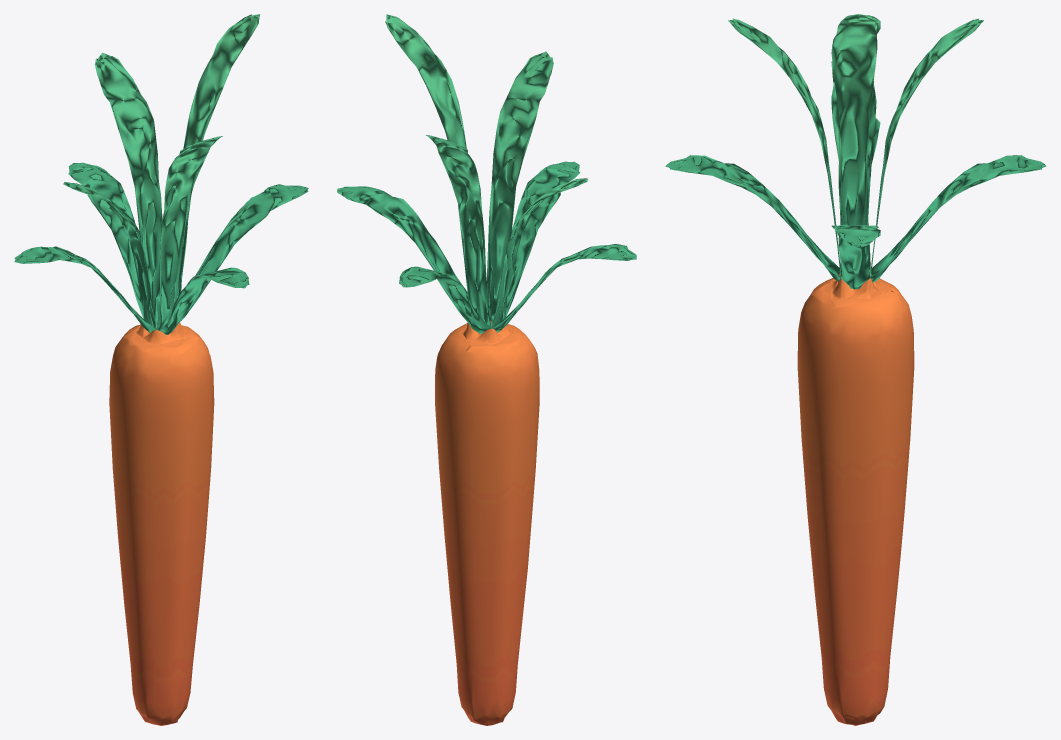
The model's file is carrot.glb.
The picture shows the model from 3 angles, left to right: view 1: azimuth 30°, elevation 25°; view 2: azimuth 150°, elevation 25°; view 3: azimuth 270°, elevation 25°; orthographic projection. The views are drawn at different scales.
Bounding box in the file's own units: 0.4501 × 0.9872 × 0.4501.
1 material, 1 textured.
